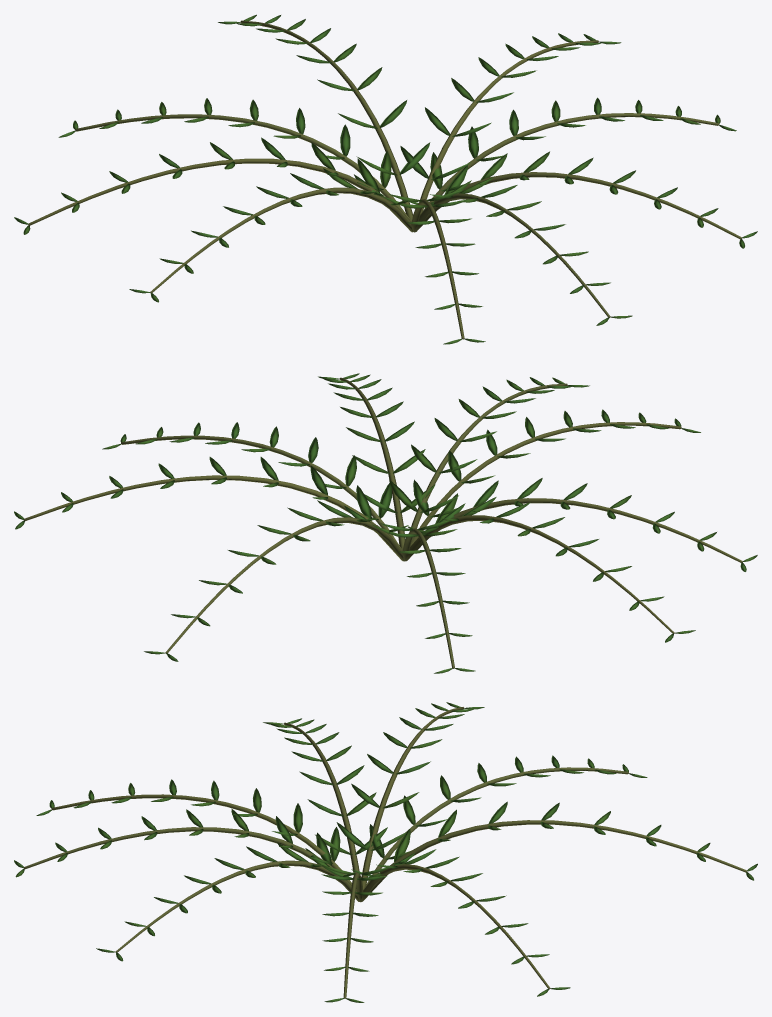
Rendered from bed_fern.glb.
3 views of the same model, one above another, from view 1: azimuth 30°, elevation 25°; view 2: azimuth 150°, elevation 25°; view 3: azimuth 270°, elevation 25° (orthographic). The views are drawn at different scales.
Parts seen in each view (by area): view 1: Sammel Pflanze, Sammel Putz; view 2: Sammel Pflanze, Sammel Putz; view 3: Sammel Pflanze, Sammel Putz.
Part boxes in pixels (bbox=[...]): Sammel Pflanze: bbox=[14, 14, 757, 344]; Sammel Putz: bbox=[28, 20, 741, 339]; Sammel Pflanze: bbox=[14, 373, 757, 673]; Sammel Putz: bbox=[23, 377, 742, 668]; Sammel Pflanze: bbox=[14, 702, 757, 1002]; Sammel Putz: bbox=[23, 707, 747, 998].
Bounding box in the file's own units: 0.7994 × 0.1192 × 0.8523.
